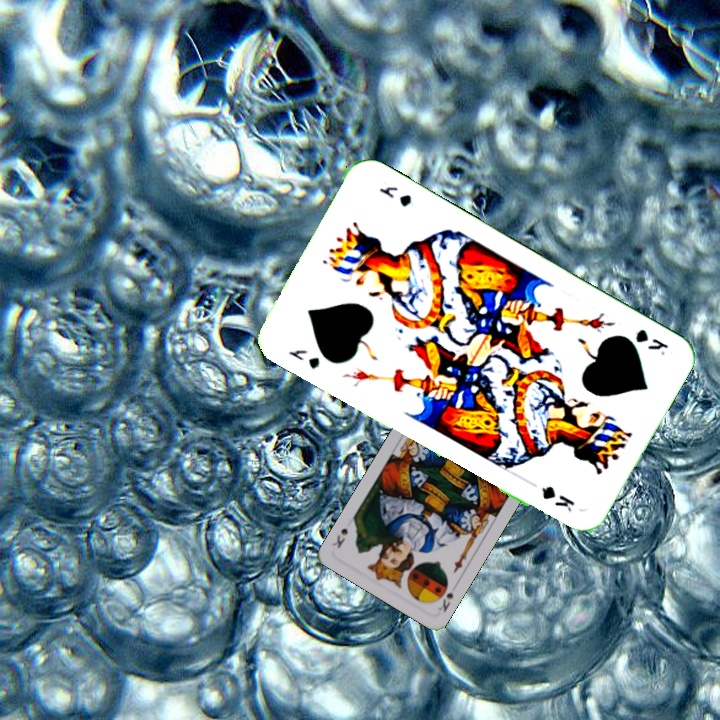GK: (631, 325, 671, 358), (284, 345, 323, 372)
SK: (434, 587, 456, 615)
